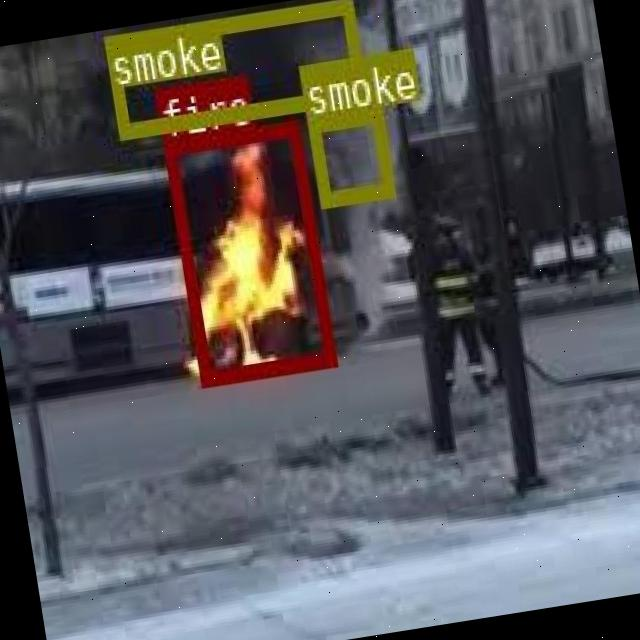fire: (160, 119, 334, 384)
smoke: (103, 0, 365, 138), (306, 105, 393, 204)
